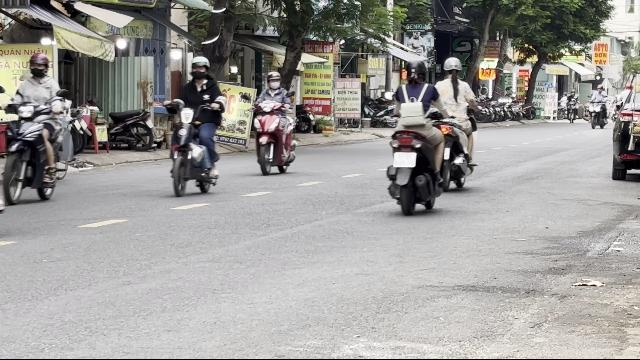helmet: (404, 59, 428, 83), (26, 53, 49, 77), (190, 55, 210, 79), (442, 57, 462, 77), (266, 70, 282, 89)
licenseplate: (394, 152, 416, 167)
motorcyclist: (0, 51, 72, 204), (384, 57, 446, 214), (162, 54, 226, 198), (428, 55, 480, 191), (248, 70, 298, 176)
